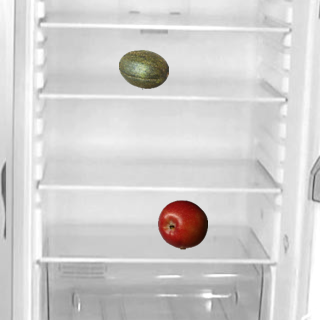Apple Braeburn: (157, 199, 207, 249)
Melon Piel de Sapo: (118, 44, 168, 94)
